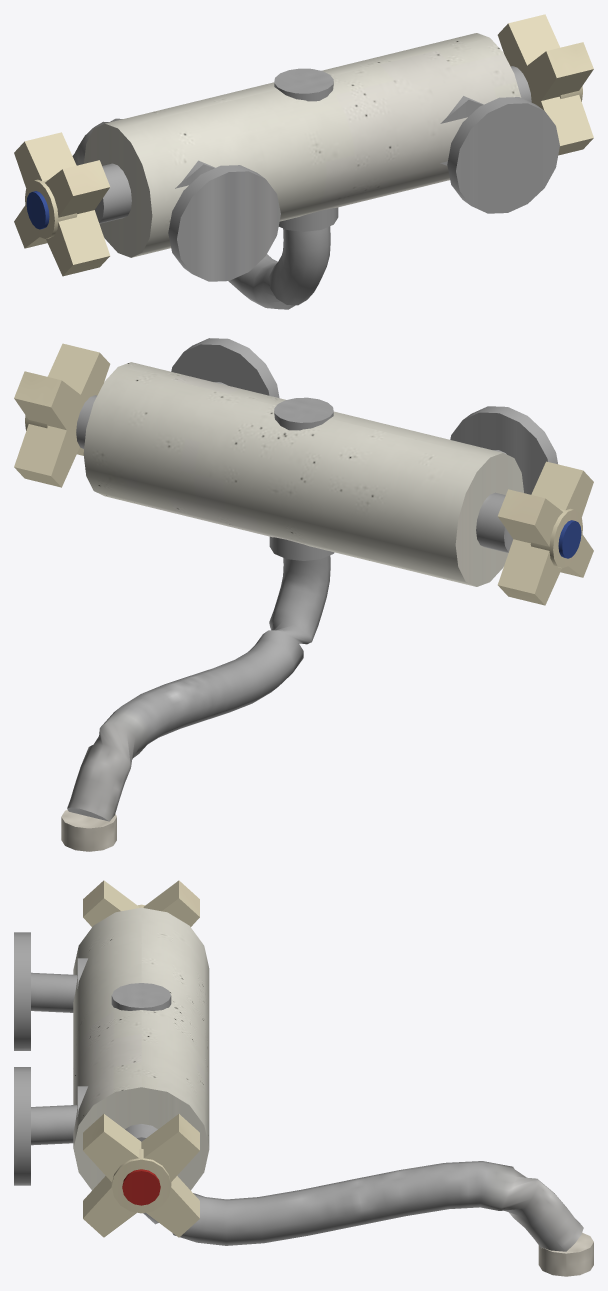
File: faucet_ceramic_web.glb
3 renders of one model, top to bottom at view 1: azimuth 30°, elevation 25°; view 2: azimuth 150°, elevation 25°; view 3: azimuth 270°, elevation 25°, orthographic.
Parts seen in each view (by area): view 1: Chrome_FaucetCeramic, Chrome_Spout; view 2: Chrome_FaucetCeramic, Chrome_Spout; view 3: Chrome_FaucetCeramic, Chrome_Spout.
Boxes of the visible parts, x1,y1,x2,y2 form: Chrome_FaucetCeramic: (14, 14, 593, 281); Chrome_Spout: (72, 118, 338, 309); Chrome_FaucetCeramic: (14, 338, 593, 605); Chrome_Spout: (61, 536, 334, 851); Chrome_FaucetCeramic: (14, 880, 209, 1237); Chrome_Spout: (143, 1161, 593, 1276).
Size of the model in its own units: 0.288 by 0.14 by 0.273.
6 materials, 6 textured.
